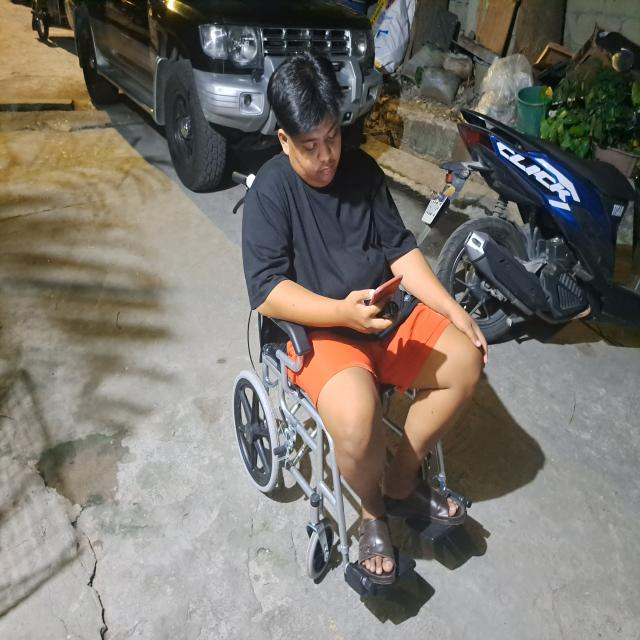wheelchairs: (226, 173, 478, 601)
